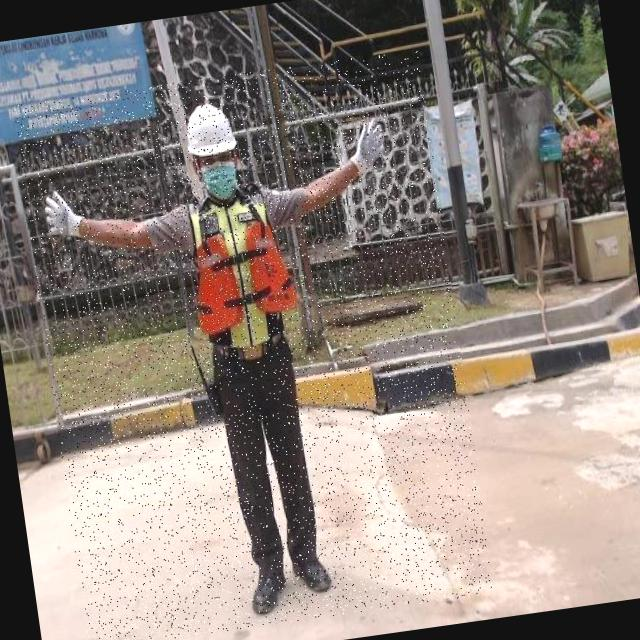boots: (242, 544, 296, 620), (290, 534, 340, 604)
gloves: (36, 175, 102, 256), (340, 101, 400, 188)
helmet: (180, 96, 250, 166)
vest: (178, 180, 306, 353)
